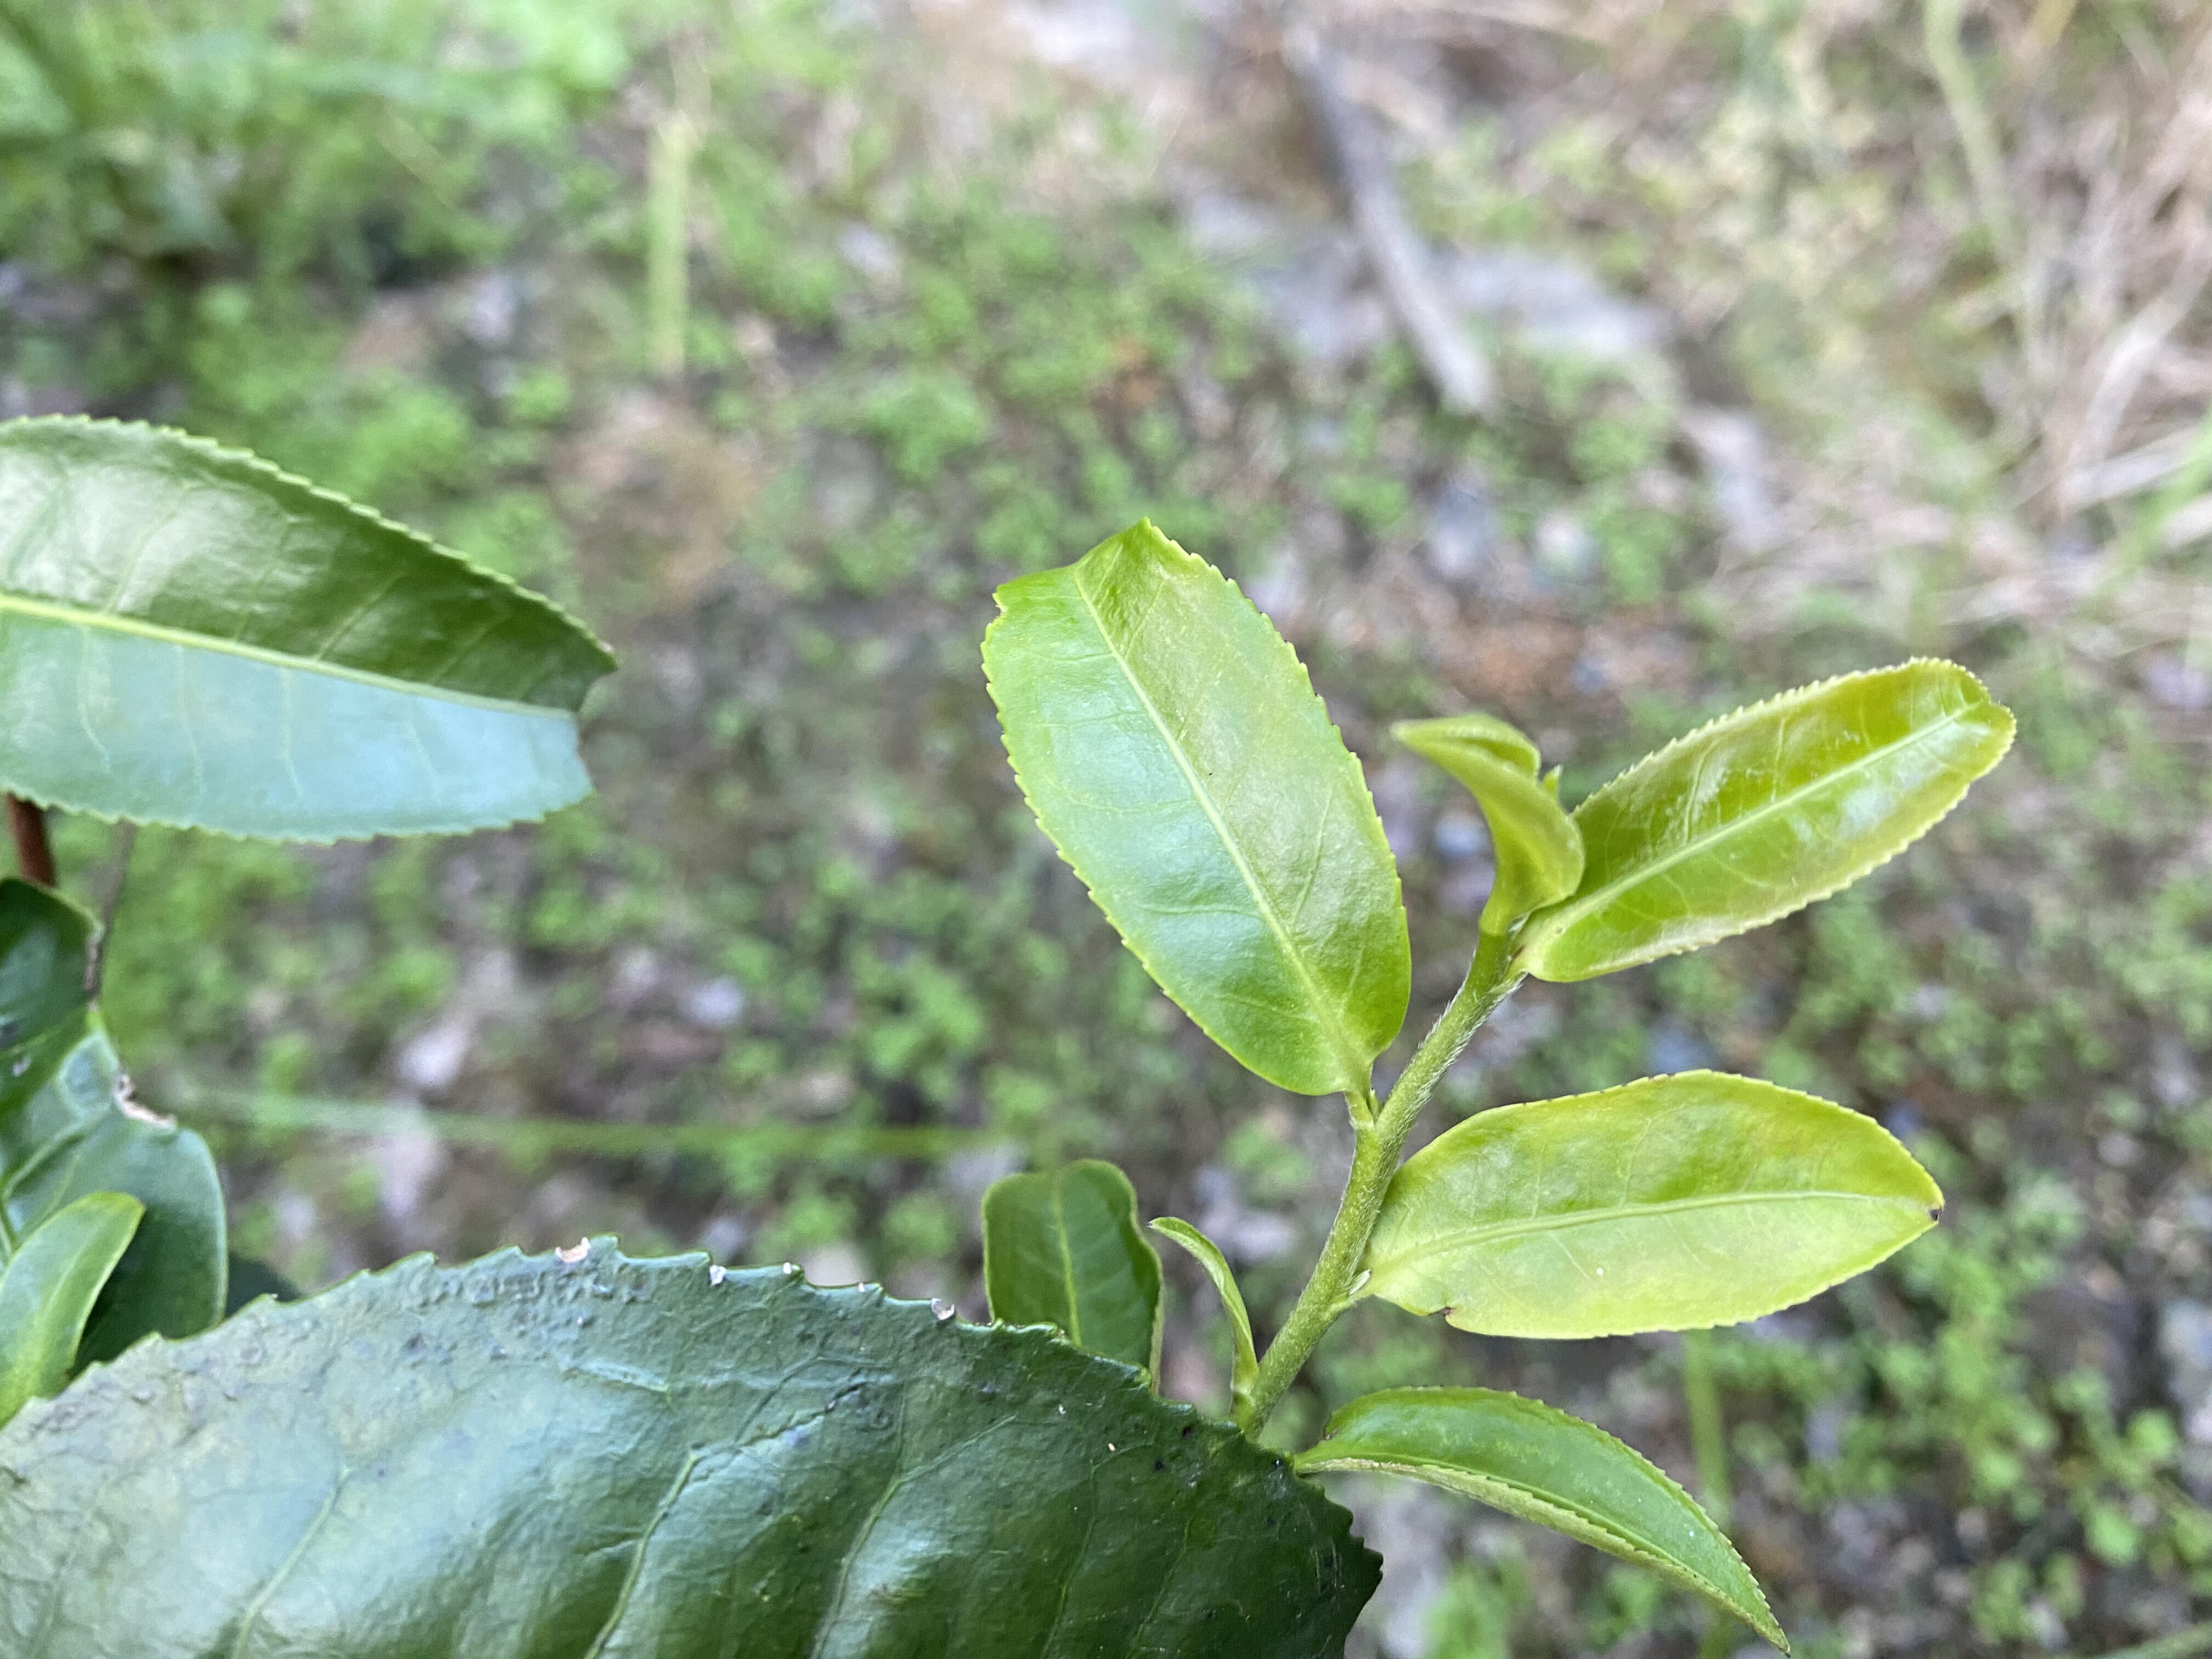chihuo_low: (3, 410, 624, 850)
healthy: (979, 516, 1414, 1098), (1524, 655, 2017, 985)
tanju_low: (1371, 1070, 1947, 1345)
